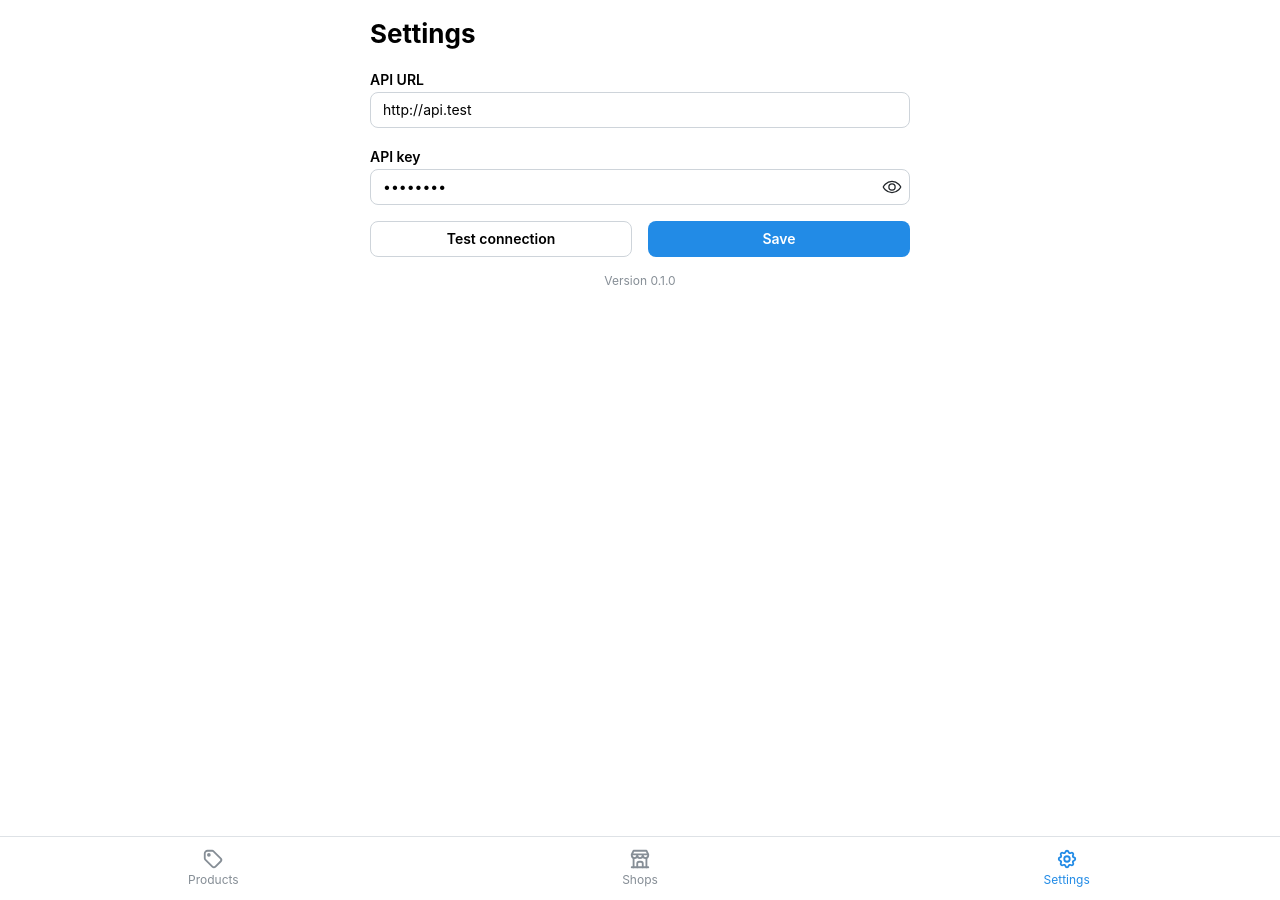
Test case: SettingsPage › reports an invalid API key
Click the button "Test connection" at coordinates (501, 239), box [370, 221, 632, 257]
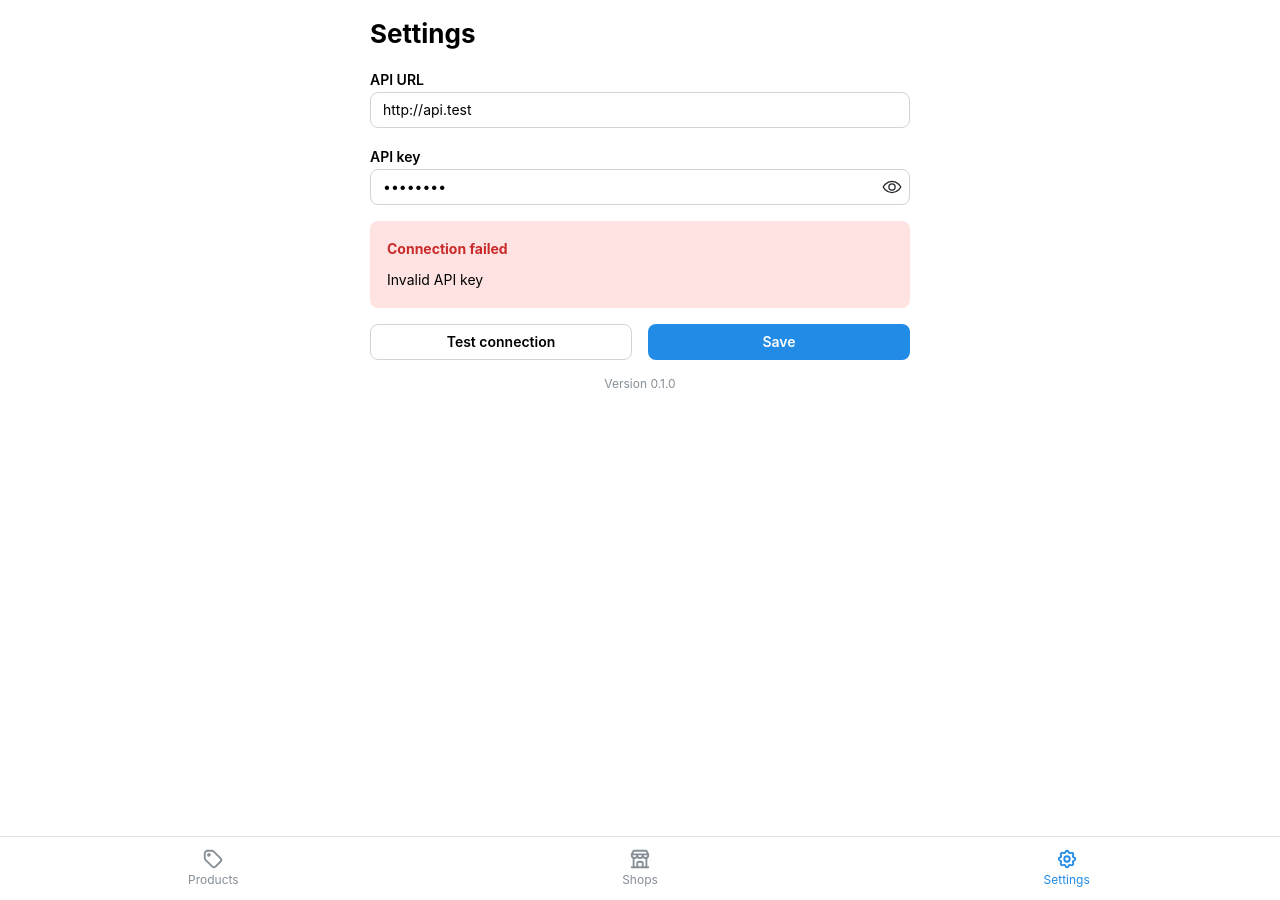
expect the text "Invalid API key" is shown: met, box [387, 271, 483, 288]
